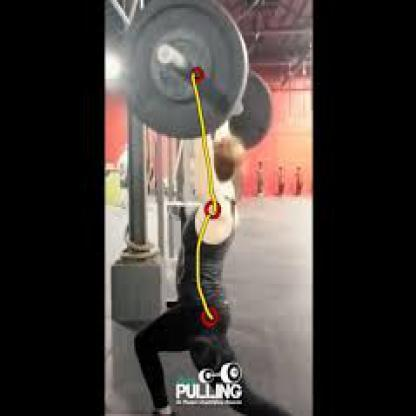Barbell: (157, 45, 178, 67)
